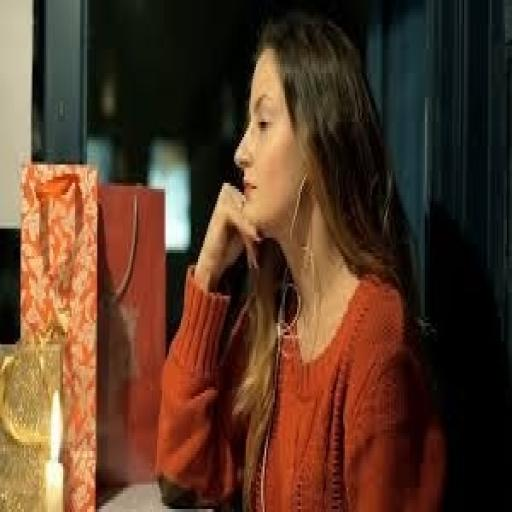listening_to_music: (154, 9, 420, 509)
